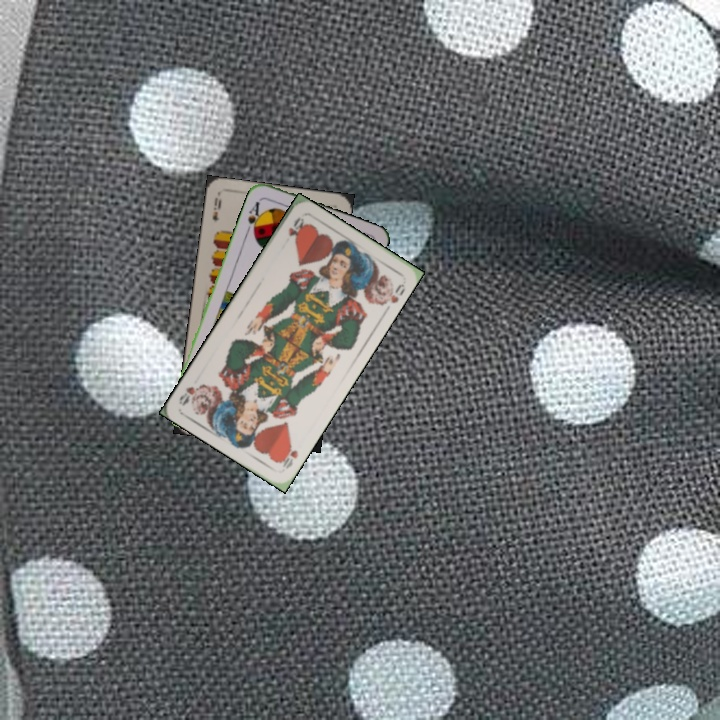E9: (209, 193, 224, 225)
HO: (275, 439, 301, 472), (284, 213, 307, 239)
SA: (242, 197, 265, 237)
